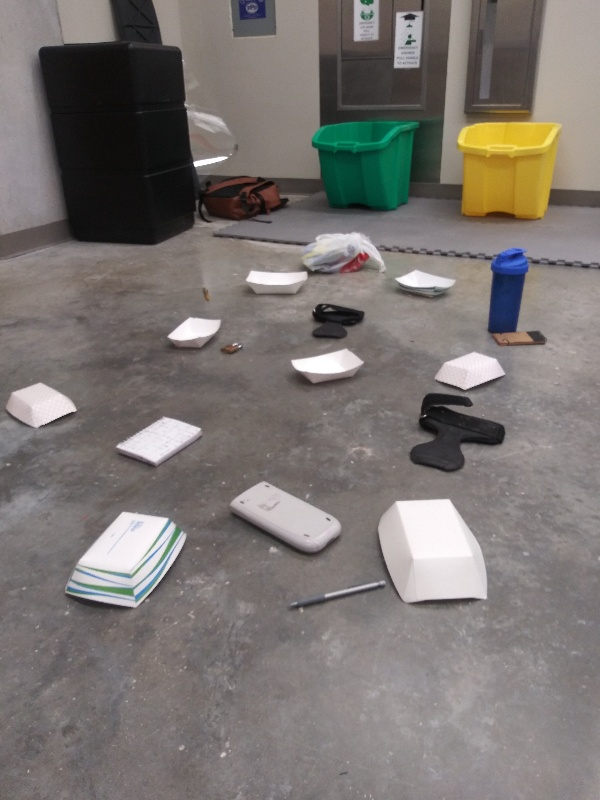plate: (372, 494, 494, 611), (64, 505, 193, 615), (1, 380, 84, 435), (429, 349, 510, 393), (287, 345, 368, 387), (162, 310, 228, 355), (240, 266, 313, 301), (389, 265, 458, 301)
